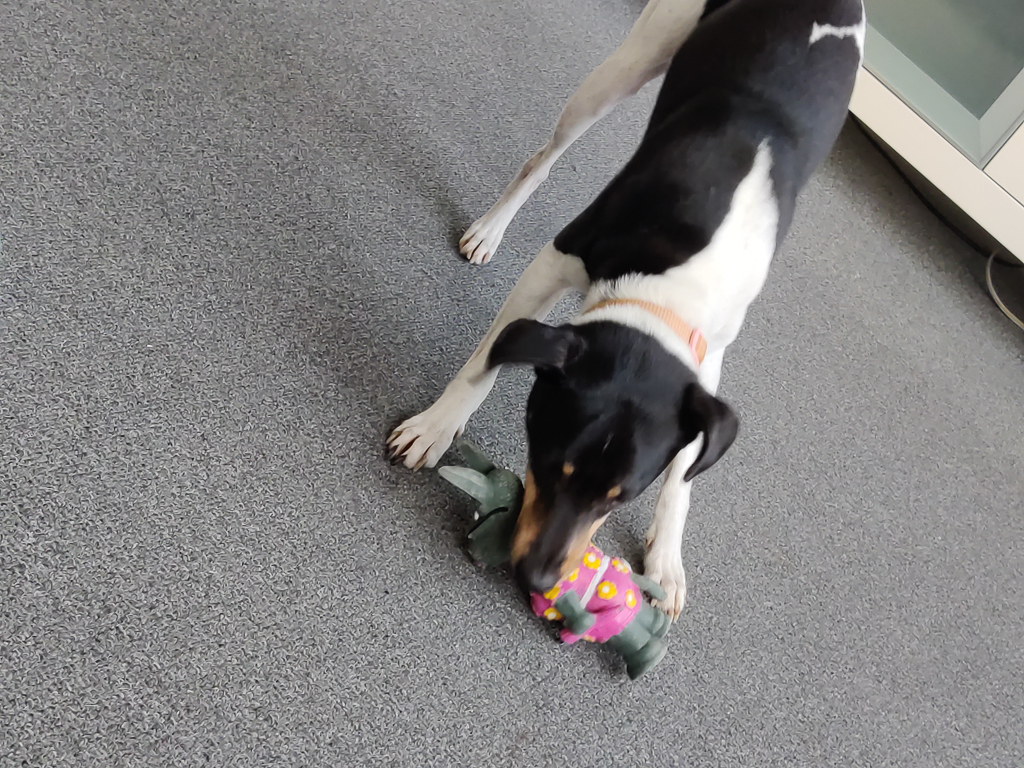Dog: (366, 0, 877, 685)
Humanoid: (416, 422, 689, 688)
